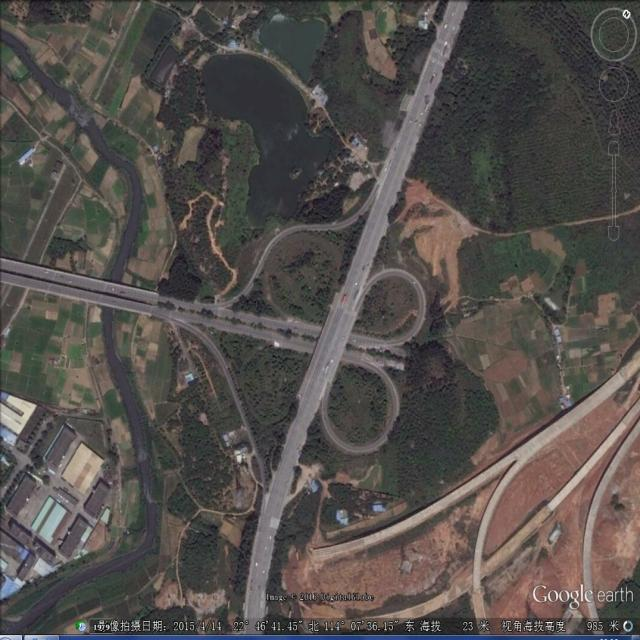overpass: (178, 191, 431, 505)
